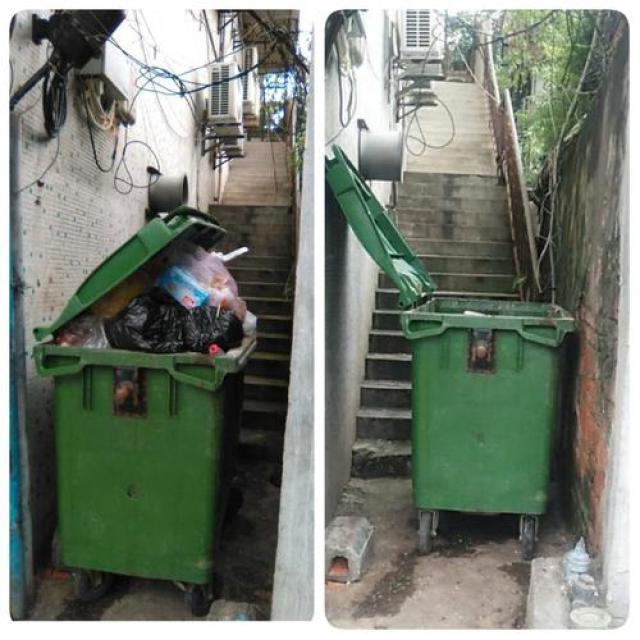garbage_bin: (399, 296, 575, 513)
overflow: (32, 205, 256, 582)
